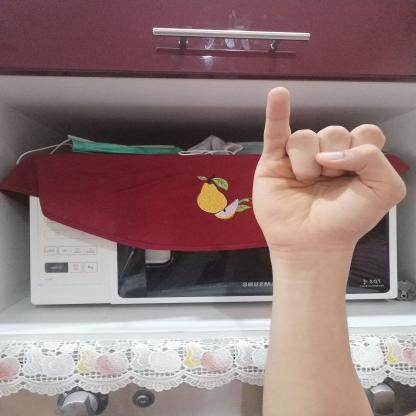MEEM: (234, 76, 414, 259)
